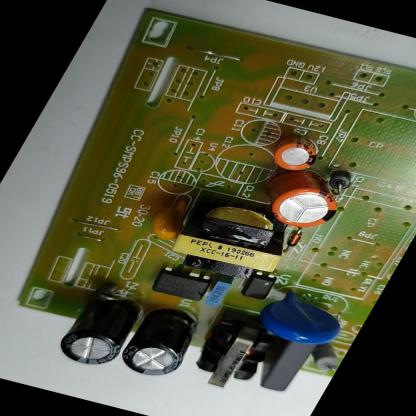Cap1: (237, 160, 358, 236)
Cap2: (262, 126, 332, 177)
Cap3: (108, 296, 215, 386)
Cap4: (48, 283, 152, 373)
MOSFET: (147, 264, 216, 305)
Mov: (247, 282, 358, 352)
Resistor: (301, 340, 349, 376)
Transformer: (160, 190, 306, 277), (178, 306, 289, 400)
